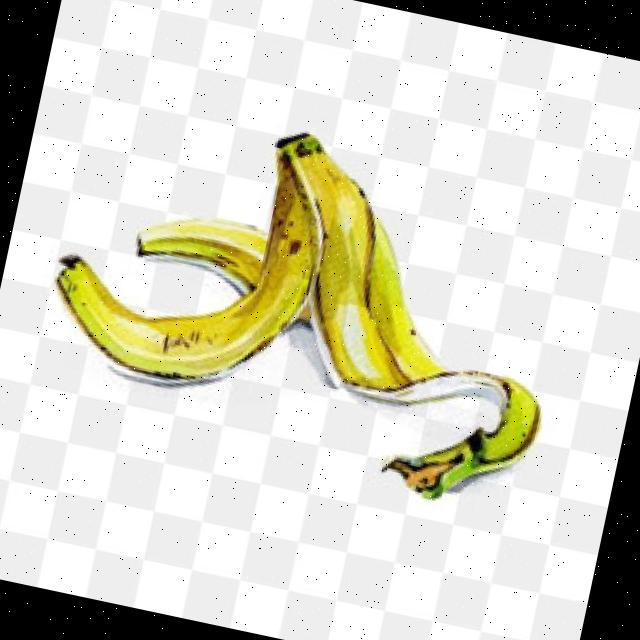banana-peel: (24, 85, 589, 519), (375, 352, 548, 519)
